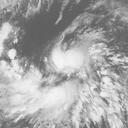cyclone: (54, 44, 85, 74)
